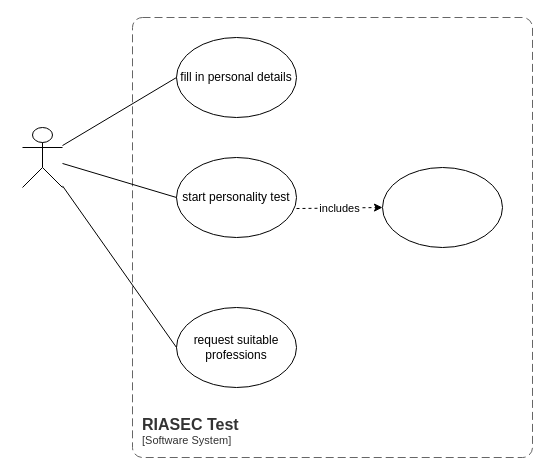
This 550x475 diagram has some shape labels left out. Here are the shapes that lost their labels. From the top down, the centre of each, then its label:
At [42,157]: "TestTaker".
At [442,207]: "answer question".
